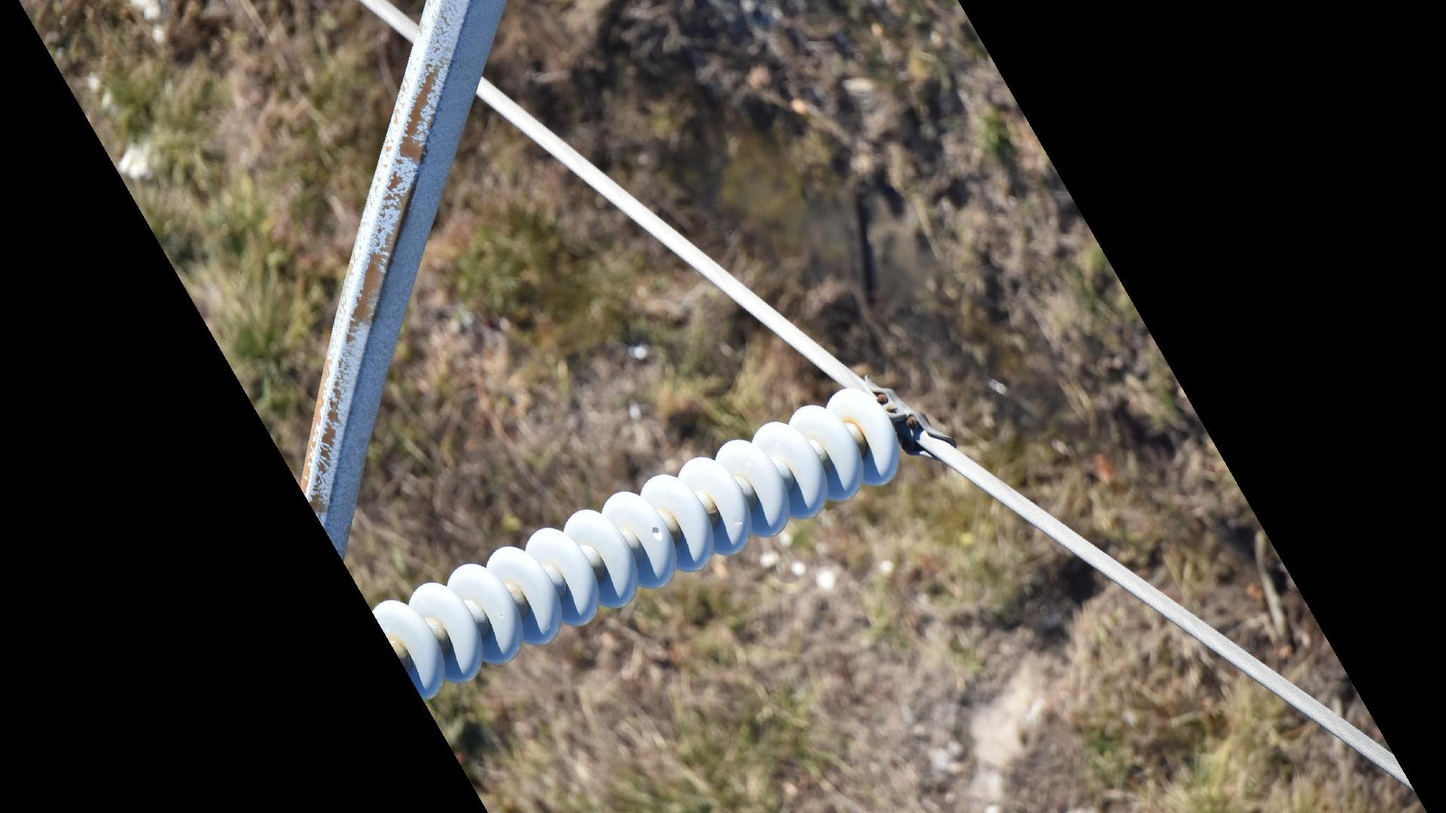insulator: (368, 384, 903, 702)
insulator_breakage: (645, 522, 670, 548)
